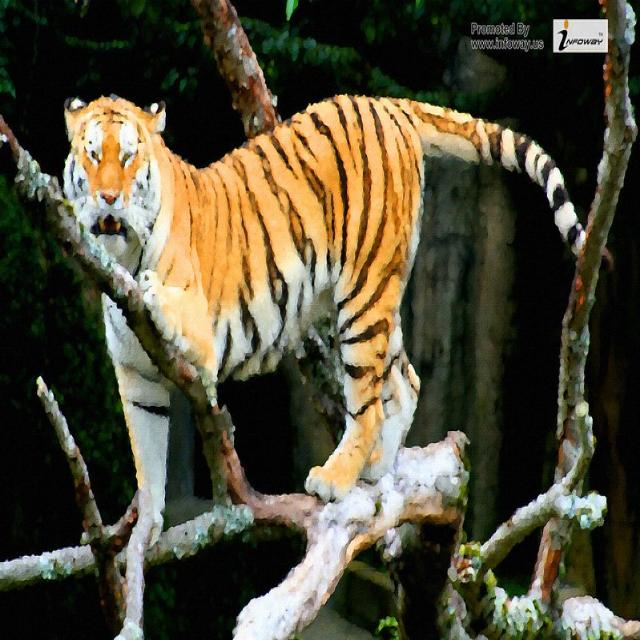Tiger: (42, 79, 510, 614)
